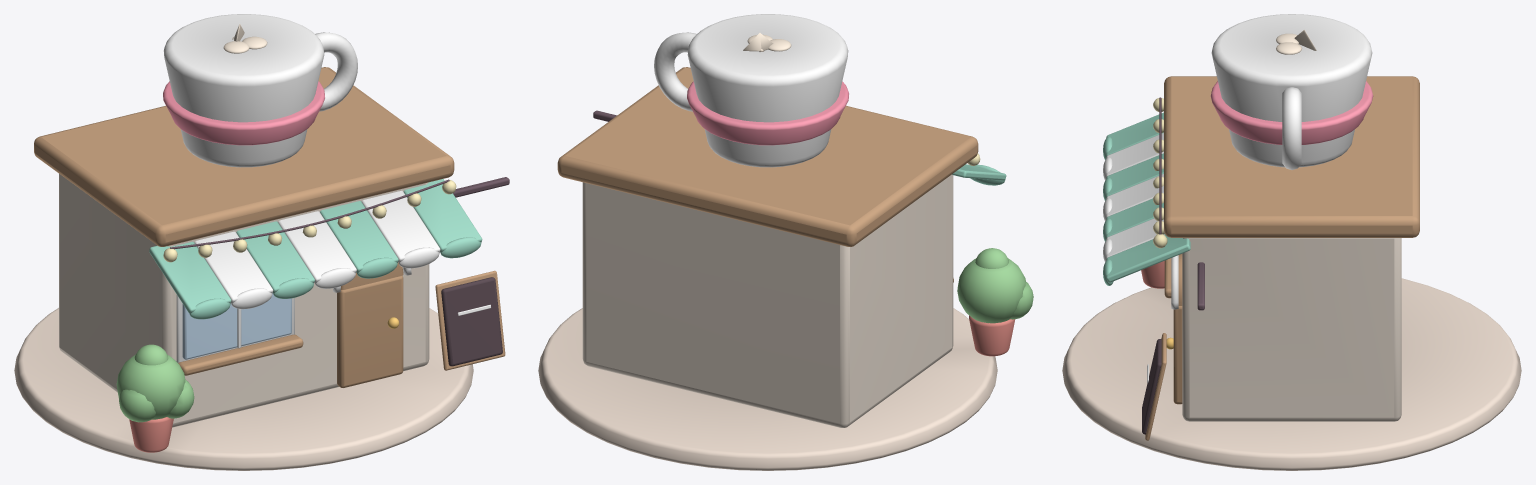
The model's file is cafe.glb.
The picture shows the model from 3 angles, left to right: view 1: azimuth 30°, elevation 25°; view 2: azimuth 150°, elevation 25°; view 3: azimuth 270°, elevation 25°; orthographic projection.
Parts seen in each view (by area): view 1: roof, walls, base, cup, door, board, window, band, awning_0, bush_0, awning_3, awning_4 (+20 smaller); view 2: walls, roof, base, cup, band, bush_0, handle, pot, bush_3, awning_0; view 3: walls, base, roof, cup, band, awning_6, handle, awning_2, awning_1, awning_0, awning_3, awning_4 (+5 smaller).
Part boxes in pixels (x1=…): roof: x1=34, y1=67, x2=454, y2=246; walls: x1=59, y1=174, x2=429, y2=427; base: x1=14, y1=308, x2=473, y2=470; cup: x1=163, y1=14, x2=324, y2=167; door: x1=337, y1=275, x2=403, y2=387; board: x1=441, y1=277, x2=502, y2=366; window: x1=182, y1=293, x2=291, y2=359; band: x1=163, y1=81, x2=324, y2=145; awning_0: x1=149, y1=241, x2=231, y2=313; bush_0: x1=116, y1=354, x2=185, y2=419; awning_3: x1=278, y1=211, x2=356, y2=282; awning_4: x1=320, y1=201, x2=398, y2=272; walls: x1=582, y1=174, x2=953, y2=427; roof: x1=557, y1=67, x2=978, y2=246; base: x1=538, y1=308, x2=997, y2=470; cup: x1=687, y1=14, x2=848, y2=167; band: x1=687, y1=81, x2=848, y2=145; bush_0: x1=957, y1=258, x2=1025, y2=323; handle: x1=654, y1=32, x2=696, y2=111; pot: x1=969, y1=315, x2=1015, y2=356; bush_3: x1=975, y1=248, x2=1008, y2=268; awning_0: x1=952, y1=164, x2=1006, y2=180; walls: x1=1182, y1=238, x2=1401, y2=421; base: x1=1062, y1=278, x2=1521, y2=470; roof: x1=1164, y1=76, x2=1419, y2=237; cup: x1=1211, y1=14, x2=1372, y2=167; band: x1=1210, y1=81, x2=1373, y2=144; awning_6: x1=1106, y1=234, x2=1190, y2=282; handle: x1=1282, y1=87, x2=1301, y2=169; awning_2: x1=1106, y1=153, x2=1163, y2=196; awning_1: x1=1106, y1=133, x2=1163, y2=176; awning_0: x1=1106, y1=112, x2=1163, y2=156; awning_3: x1=1106, y1=174, x2=1163, y2=217; awning_4: x1=1106, y1=198, x2=1163, y2=237.
Bounding box in the file's own units: 3.3 × 2.62 × 3.14.
